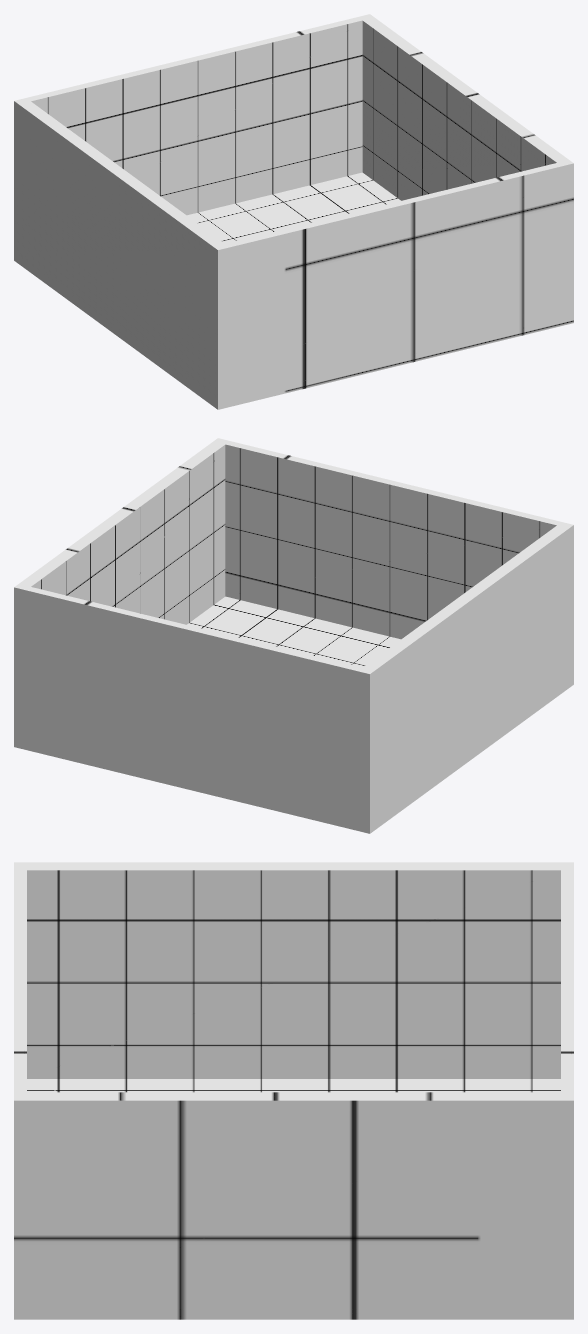
File: tutorial_room.fbx
3 views of the same model, one above another, from view 1: azimuth 30°, elevation 25°; view 2: azimuth 150°, elevation 25°; view 3: azimuth 270°, elevation 25° (orthographic). The views are drawn at different scales.
Parts seen in each view (by area): view 1: land; view 2: land; view 3: land.
Boxes of the visible parts, box(x1,y1,x2,y2) form: land: box(14, 14, 573, 409); land: box(14, 438, 573, 833); land: box(14, 862, 573, 1319).
Size of the model in its own units: 34.6 by 14.83 by 34.34.
1 material, 1 textured.
